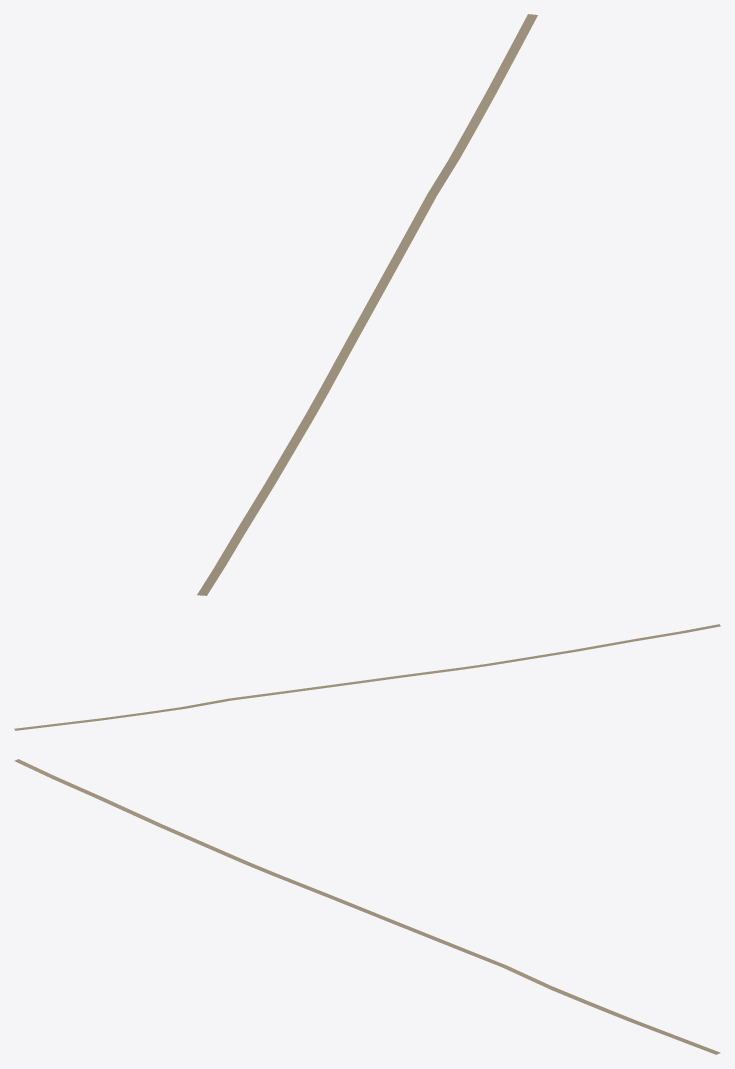
Rendered from farm_-27_-25_track.glb.
The picture shows the model from 3 angles, top to bottom: view 1: azimuth 30°, elevation 25°; view 2: azimuth 150°, elevation 25°; view 3: azimuth 270°, elevation 25°; orthographic projection. The views are drawn at different scales.
Visible parts, largest first — view 1: geometry_0; view 2: geometry_0; view 3: geometry_0.
Boxes of the visible parts, x1=… form: geometry_0: x1=197, y1=14, x2=537, y2=595; geometry_0: x1=14, y1=624, x2=720, y2=730; geometry_0: x1=14, y1=759, x2=720, y2=1054.
Size of the model in its own units: 318 by 9.87 by 341.
